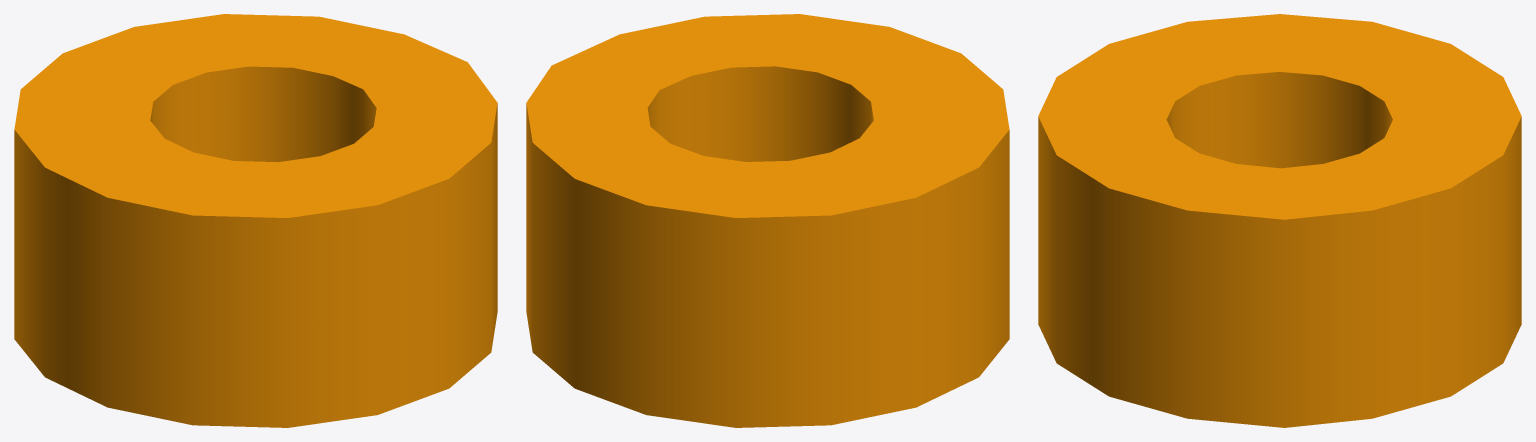
The model's file is Tape_02.fbx.
3 views of the same model, side by side, from view 1: azimuth 30°, elevation 25°; view 2: azimuth 150°, elevation 25°; view 3: azimuth 270°, elevation 25° (orthographic).
Parts seen in each view (by area): view 1: Tape_02; view 2: Tape_02; view 3: Tape_02.
Boxes of the visible parts, x1=… form: Tape_02: x1=14, y1=14, x2=497, y2=427; Tape_02: x1=526, y1=14, x2=1009, y2=427; Tape_02: x1=1038, y1=14, x2=1521, y2=427.
Bounding box in the file's own units: 28.2 × 13.3 × 28.
